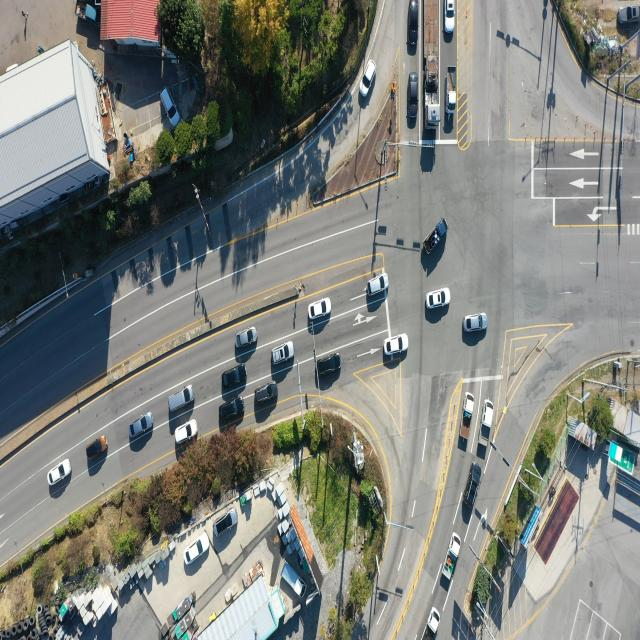car: (159, 84, 181, 127), (186, 532, 210, 566), (168, 384, 195, 413), (318, 353, 344, 379), (130, 412, 154, 440), (214, 509, 237, 538), (218, 400, 244, 425), (49, 458, 72, 486), (360, 58, 376, 97), (220, 364, 245, 388), (407, 0, 419, 49), (174, 419, 198, 443), (425, 287, 450, 309), (384, 335, 409, 357), (272, 342, 295, 365), (306, 297, 330, 319), (366, 272, 388, 296), (255, 382, 279, 404), (463, 313, 488, 333), (410, 72, 420, 122), (236, 326, 258, 348), (85, 436, 106, 459), (446, 0, 456, 33)
large_truck: (422, 0, 440, 127)
small_truck: (280, 561, 307, 599), (440, 534, 460, 584), (465, 464, 484, 514), (426, 217, 448, 254), (479, 399, 495, 449), (461, 393, 475, 440), (75, 0, 98, 25), (617, 4, 640, 25), (446, 66, 456, 112), (427, 604, 441, 634)
